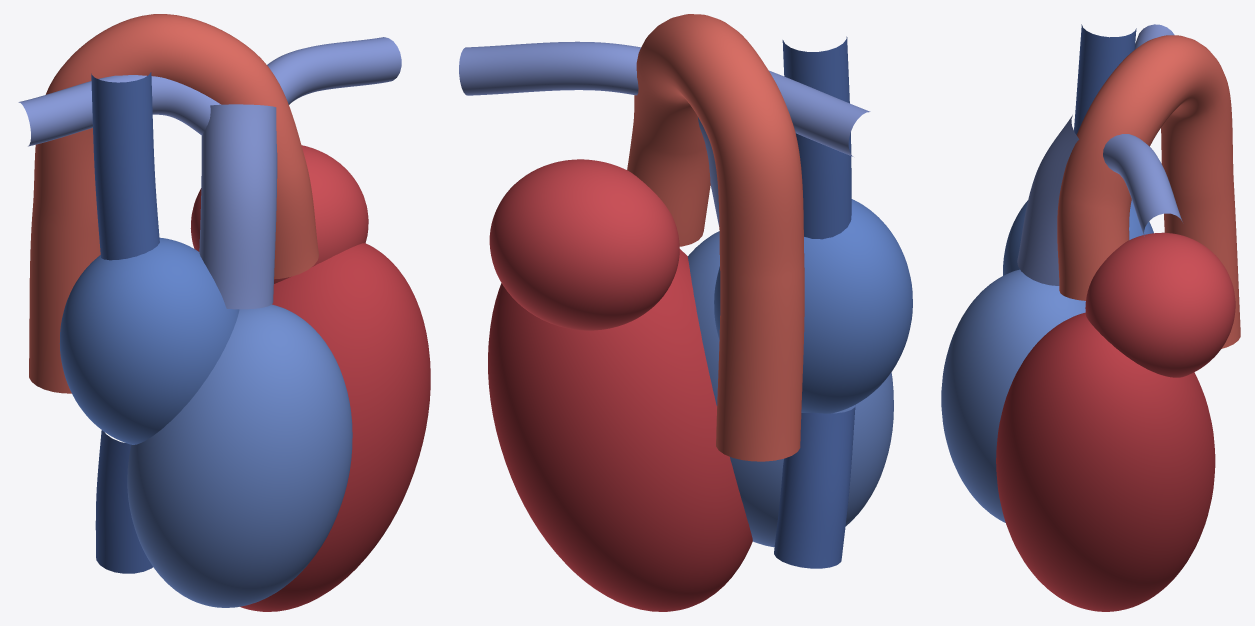
File: schematic-heart.glb
The picture shows the model from 3 angles, left to right: view 1: azimuth 30°, elevation 25°; view 2: azimuth 150°, elevation 25°; view 3: azimuth 270°, elevation 25°; orthographic projection. The views are drawn at different scales.
Visible parts, largest first — view 1: Right ventricle, Aorta, Left ventricle, Right atrium, Pulmonary trunk, Superior vena cava, Right pulmonary artery, Left pulmonary artery, Left atrium, Inferior vena cava; view 2: Left ventricle, Aorta, Left atrium, Right atrium, Right ventricle, Inferior vena cava, Left pulmonary artery, Superior vena cava, Right pulmonary artery, Pulmonary trunk; view 3: Left ventricle, Aorta, Left atrium, Right ventricle, Pulmonary trunk, Left pulmonary artery, Superior vena cava, Right atrium, Right pulmonary artery.
Boxes of the visible parts, x1,y1,x2,y2 form: Right ventricle: (127, 304, 352, 607); Aorta: (29, 14, 318, 393); Left ventricle: (240, 243, 430, 611); Right atrium: (59, 237, 239, 444); Pulmonary trunk: (199, 104, 277, 309); Superior vena cava: (91, 72, 159, 260); Right pulmonary artery: (18, 75, 220, 146); Left pulmonary artery: (267, 37, 401, 104); Left atrium: (190, 145, 368, 283); Inferior vena cava: (95, 430, 152, 573); Left ventricle: (488, 249, 752, 611); Aorta: (627, 14, 804, 461); Left atrium: (489, 159, 679, 330); Right atrium: (714, 199, 912, 413); Right ventricle: (688, 231, 893, 547); Inferior vena cava: (774, 407, 855, 568); Left pulmonary artery: (459, 41, 640, 95); Superior vena cava: (782, 36, 851, 239); Right pulmonary artery: (768, 70, 870, 156); Pulmonary trunk: (698, 117, 719, 226); Left ventricle: (996, 312, 1215, 611); Aorta: (1057, 35, 1240, 348); Left atrium: (1085, 232, 1235, 377); Right ventricle: (941, 269, 1085, 522); Pulmonary trunk: (1017, 115, 1079, 285); Left pulmonary artery: (1103, 134, 1182, 236); Superior vena cava: (1074, 24, 1136, 134); Right atrium: (1003, 199, 1153, 275); Right pulmonary artery: (1135, 24, 1174, 49).
Size of the model in its own units: 11.46 by 17 by 8.74.
